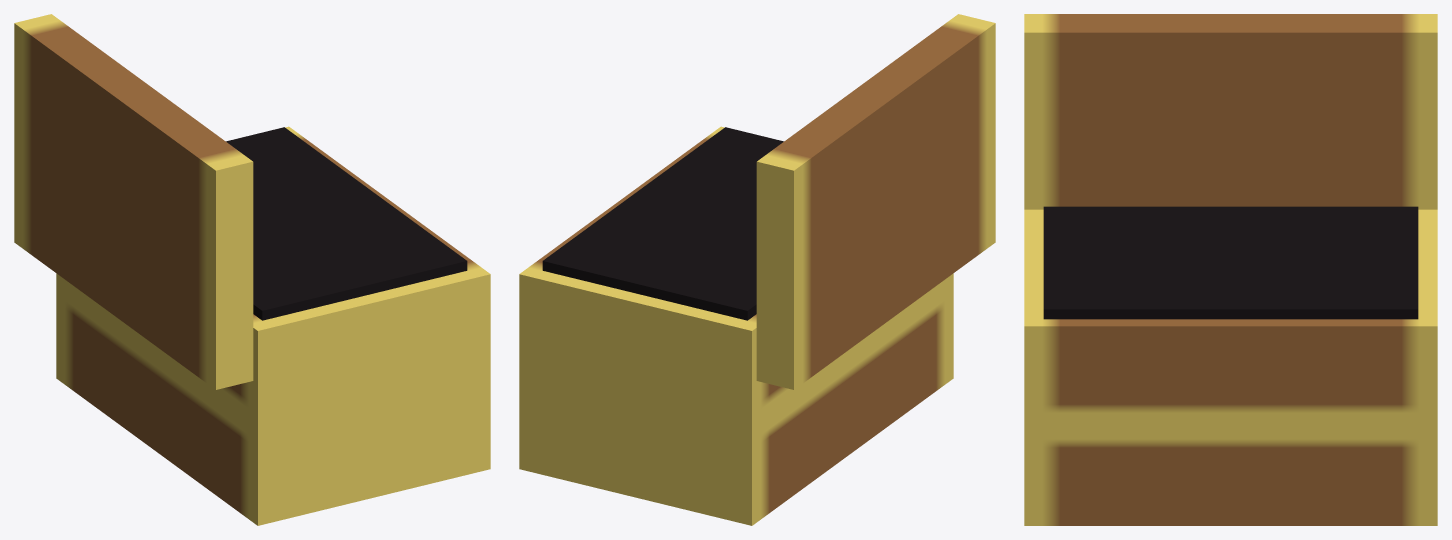
File: prop_chesto_b6bb.glb
3 renders of one model, left to right at view 1: azimuth 30°, elevation 25°; view 2: azimuth 150°, elevation 25°; view 3: azimuth 270°, elevation 25°, orthographic. The views are drawn at different scales.
Visible parts, largest first — view 1: prop_chesto_b6bb; view 2: prop_chesto_b6bb; view 3: prop_chesto_b6bb.
Part boxes in pixels (left/top/right/bottom): prop_chesto_b6bb: left=14, top=14, right=490, bottom=525; prop_chesto_b6bb: left=519, top=14, right=995, bottom=525; prop_chesto_b6bb: left=1024, top=14, right=1437, bottom=525.
Size of the model in its own units: 0.5216 by 0.6629 by 0.663.
Materials: 1 (1 with a texture image).
